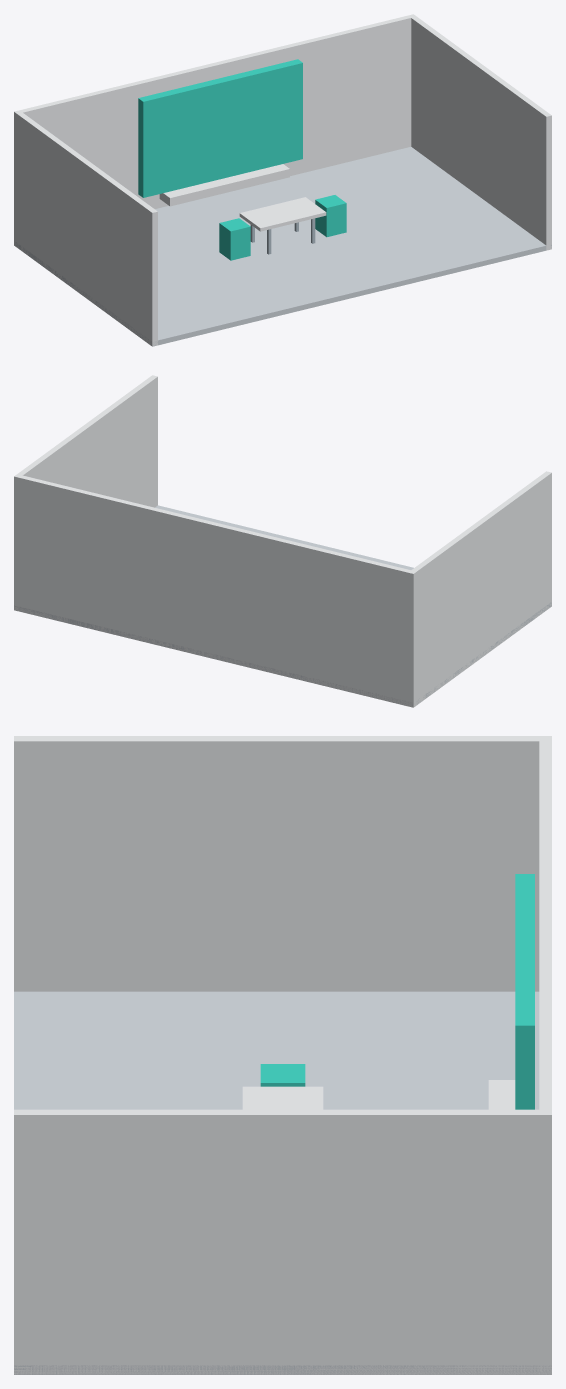
The picture shows the model from 3 angles, top to bottom: view 1: azimuth 30°, elevation 25°; view 2: azimuth 150°, elevation 25°; view 3: azimuth 270°, elevation 25°; orthographic projection. The views are drawn at different scales.
Parts seen in each view (by area): view 1: Exhibition Booth Concept; view 2: Exhibition Booth Concept; view 3: Exhibition Booth Concept.
Boxes of the visible parts, x1=… form: Exhibition Booth Concept: x1=14, y1=14, x2=551, y2=346; Exhibition Booth Concept: x1=14, y1=375, x2=551, y2=707; Exhibition Booth Concept: x1=14, y1=736, x2=551, y2=1374.
Bounding box in the file's own units: 10 × 3.2 × 6.
